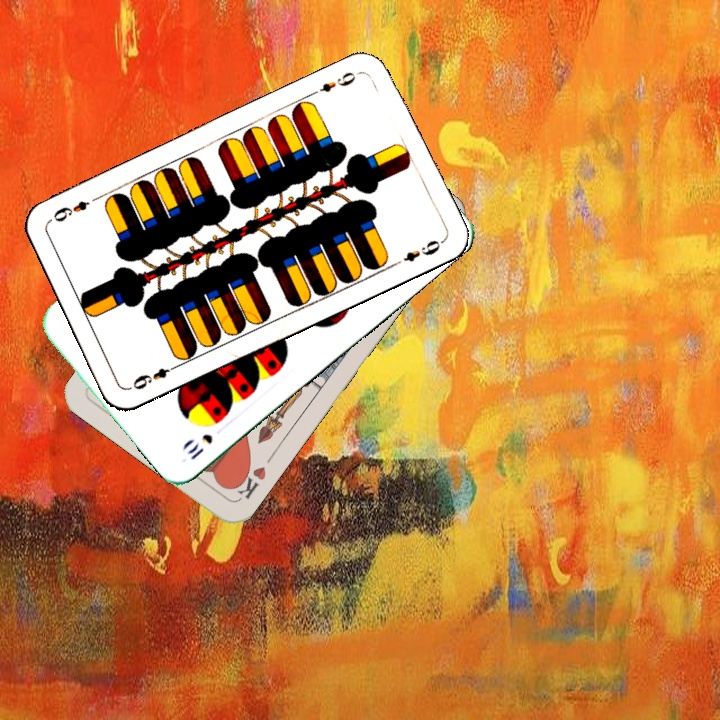E9: (126, 360, 182, 393), (309, 66, 365, 98)
HK: (228, 460, 269, 502)
S10: (183, 429, 216, 463)
